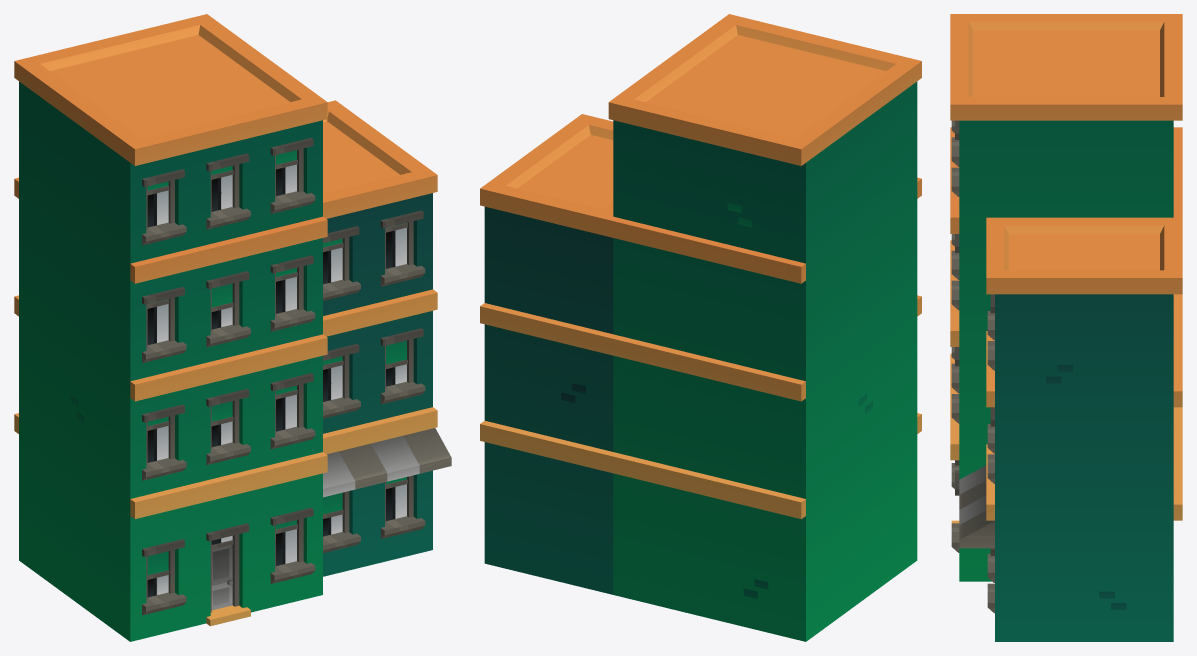
File: building3.obj
3 views of the same model, side by side, from view 1: azimuth 30°, elevation 25°; view 2: azimuth 150°, elevation 25°; view 3: azimuth 270°, elevation 25° (orthographic). The views are drawn at different scales.
Parts seen in each view (by area): view 1: building_H_withoutBase_Cube.946; view 2: building_H_withoutBase_Cube.946; view 3: building_H_withoutBase_Cube.946.
Boxes of the visible parts, bbox=[...] form: building_H_withoutBase_Cube.946: bbox=[14, 14, 451, 641]; building_H_withoutBase_Cube.946: bbox=[480, 14, 921, 641]; building_H_withoutBase_Cube.946: bbox=[950, 14, 1182, 641].
Size of the model in its own units: 2.01 by 2.95 by 1.3.
